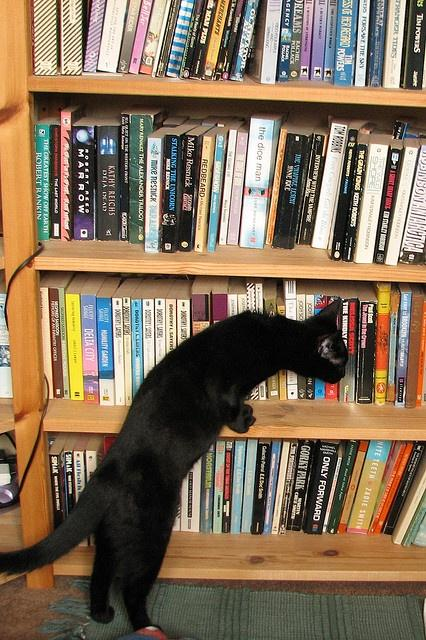Rak: (22, 0, 425, 592)
